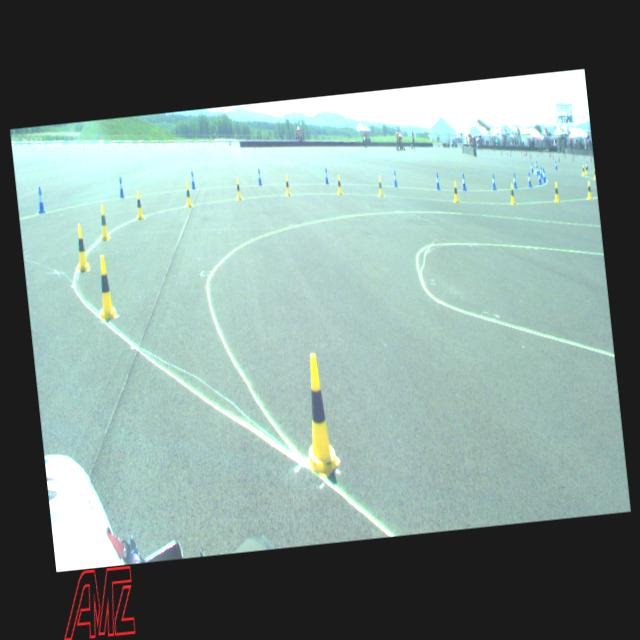blue_cone: (36, 186, 45, 212), (117, 176, 124, 196), (434, 172, 440, 189), (256, 168, 262, 185), (490, 173, 496, 189), (526, 172, 532, 187), (190, 170, 195, 188), (461, 173, 466, 190), (392, 170, 397, 187), (512, 172, 517, 188), (324, 167, 328, 183), (537, 172, 542, 184), (542, 169, 546, 182), (541, 167, 544, 179), (535, 164, 538, 176), (534, 160, 538, 169), (530, 162, 533, 172), (554, 161, 557, 169), (540, 166, 542, 178), (586, 161, 588, 170)
unknown_cone: (590, 156, 592, 162)
yellow_cone: (295, 351, 341, 480), (93, 254, 117, 320), (73, 223, 89, 270), (97, 204, 110, 240), (134, 190, 144, 218), (508, 183, 516, 204), (184, 182, 191, 206), (234, 178, 242, 198), (452, 180, 458, 202), (336, 174, 342, 194), (284, 174, 290, 194), (553, 182, 559, 200), (586, 180, 592, 198), (377, 176, 382, 196), (592, 168, 596, 179), (581, 165, 584, 174), (584, 164, 587, 173)
